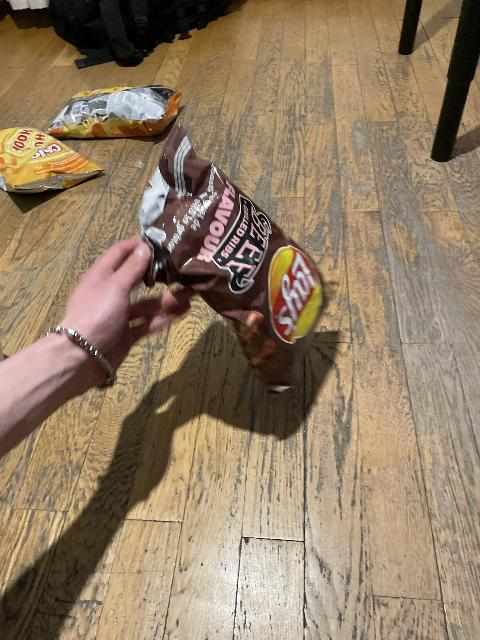Chio Cascaval 125g: (45, 85, 182, 139)
Chio Hula Hoops Cheese 70g: (0, 126, 106, 191)
Lays Beef Grilled Ribs 125g: (146, 130, 334, 379)
